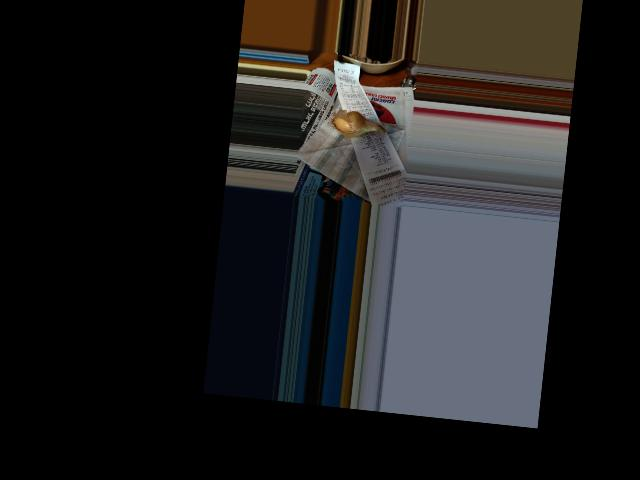onion: (330, 110, 371, 139)
